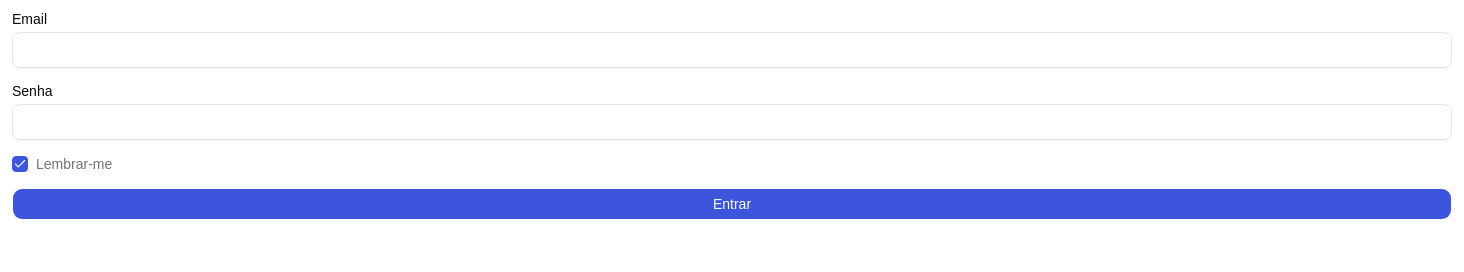
Scenario: LoginForm › não navega quando signIn falha
Type "a@a.com" into the field labelled "Email" at (732, 50), box [12,32,1452,68]
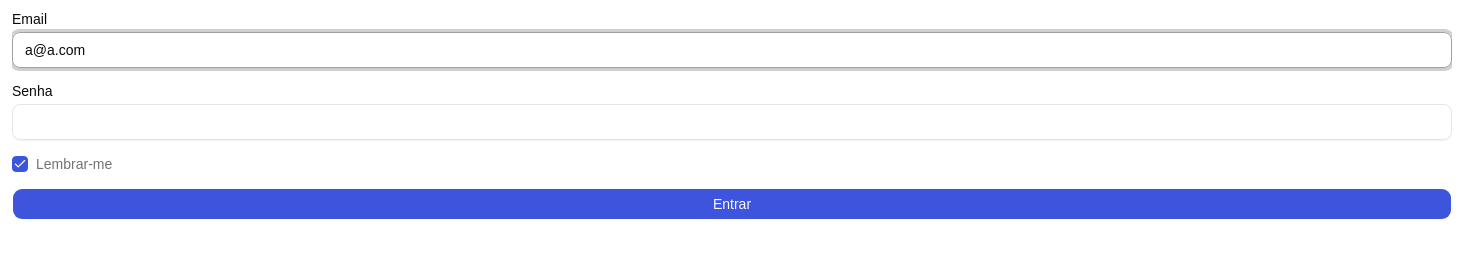
Type "errada" into the password field labelled "Senha" at (732, 122), box [12,104,1452,140]
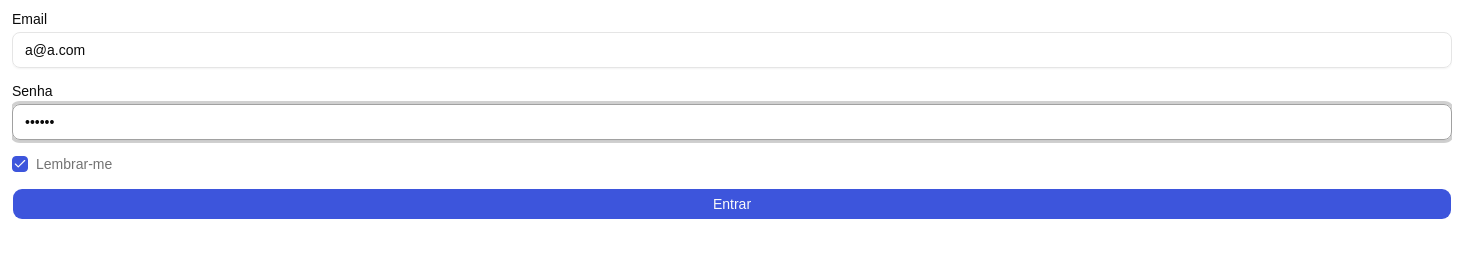
Click the button "Entrar" at (732, 204), box [12,188,1452,220]
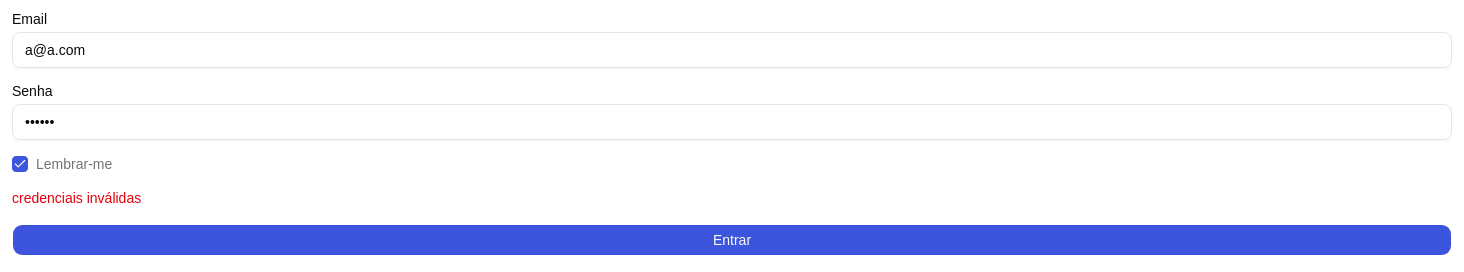
expect the message reads "credenciais inválidas": met, box [12,190,141,206]
